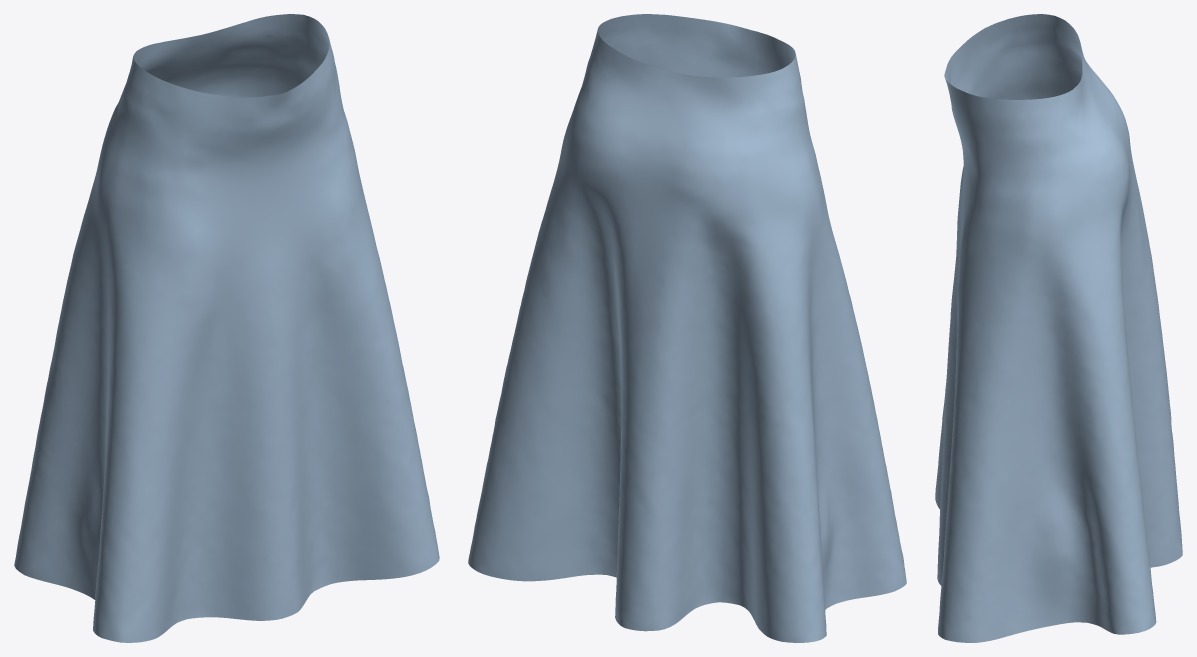
File: skirt_M.glb
The picture shows the model from 3 angles, left to right: view 1: azimuth 30°, elevation 25°; view 2: azimuth 150°, elevation 25°; view 3: azimuth 270°, elevation 25°; orthographic projection. The views are drawn at different scales.
Parts seen in each view (by area): view 1: geometry_0; view 2: geometry_0; view 3: geometry_0.
Part boxes in pixels (x1,y1,x2,y2): geometry_0: (14,14,439,642); geometry_0: (468,14,906,642); geometry_0: (935,14,1182,642).
Size of the model in its own units: 0.5555 by 0.8392 by 0.3614.
